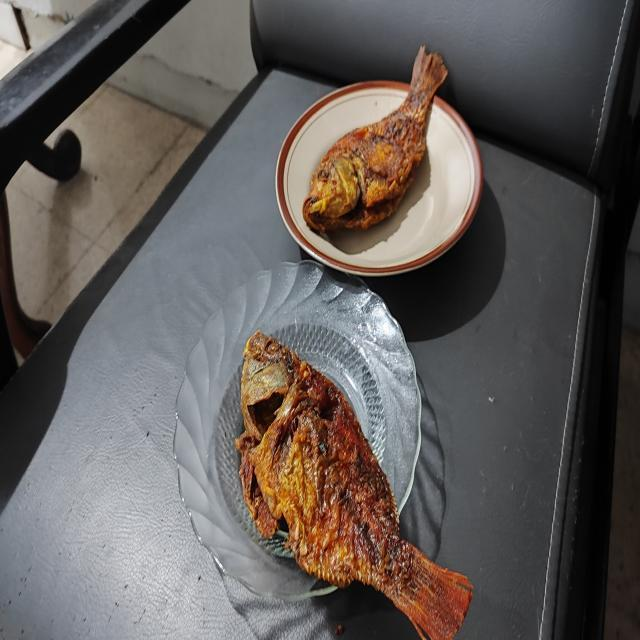ikan_mujair: (235, 330, 472, 640), (302, 46, 448, 232)
